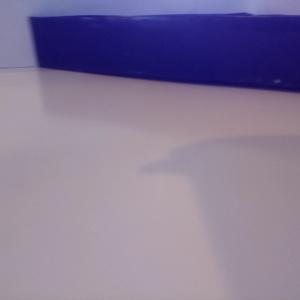zone: (29, 13, 300, 92)
